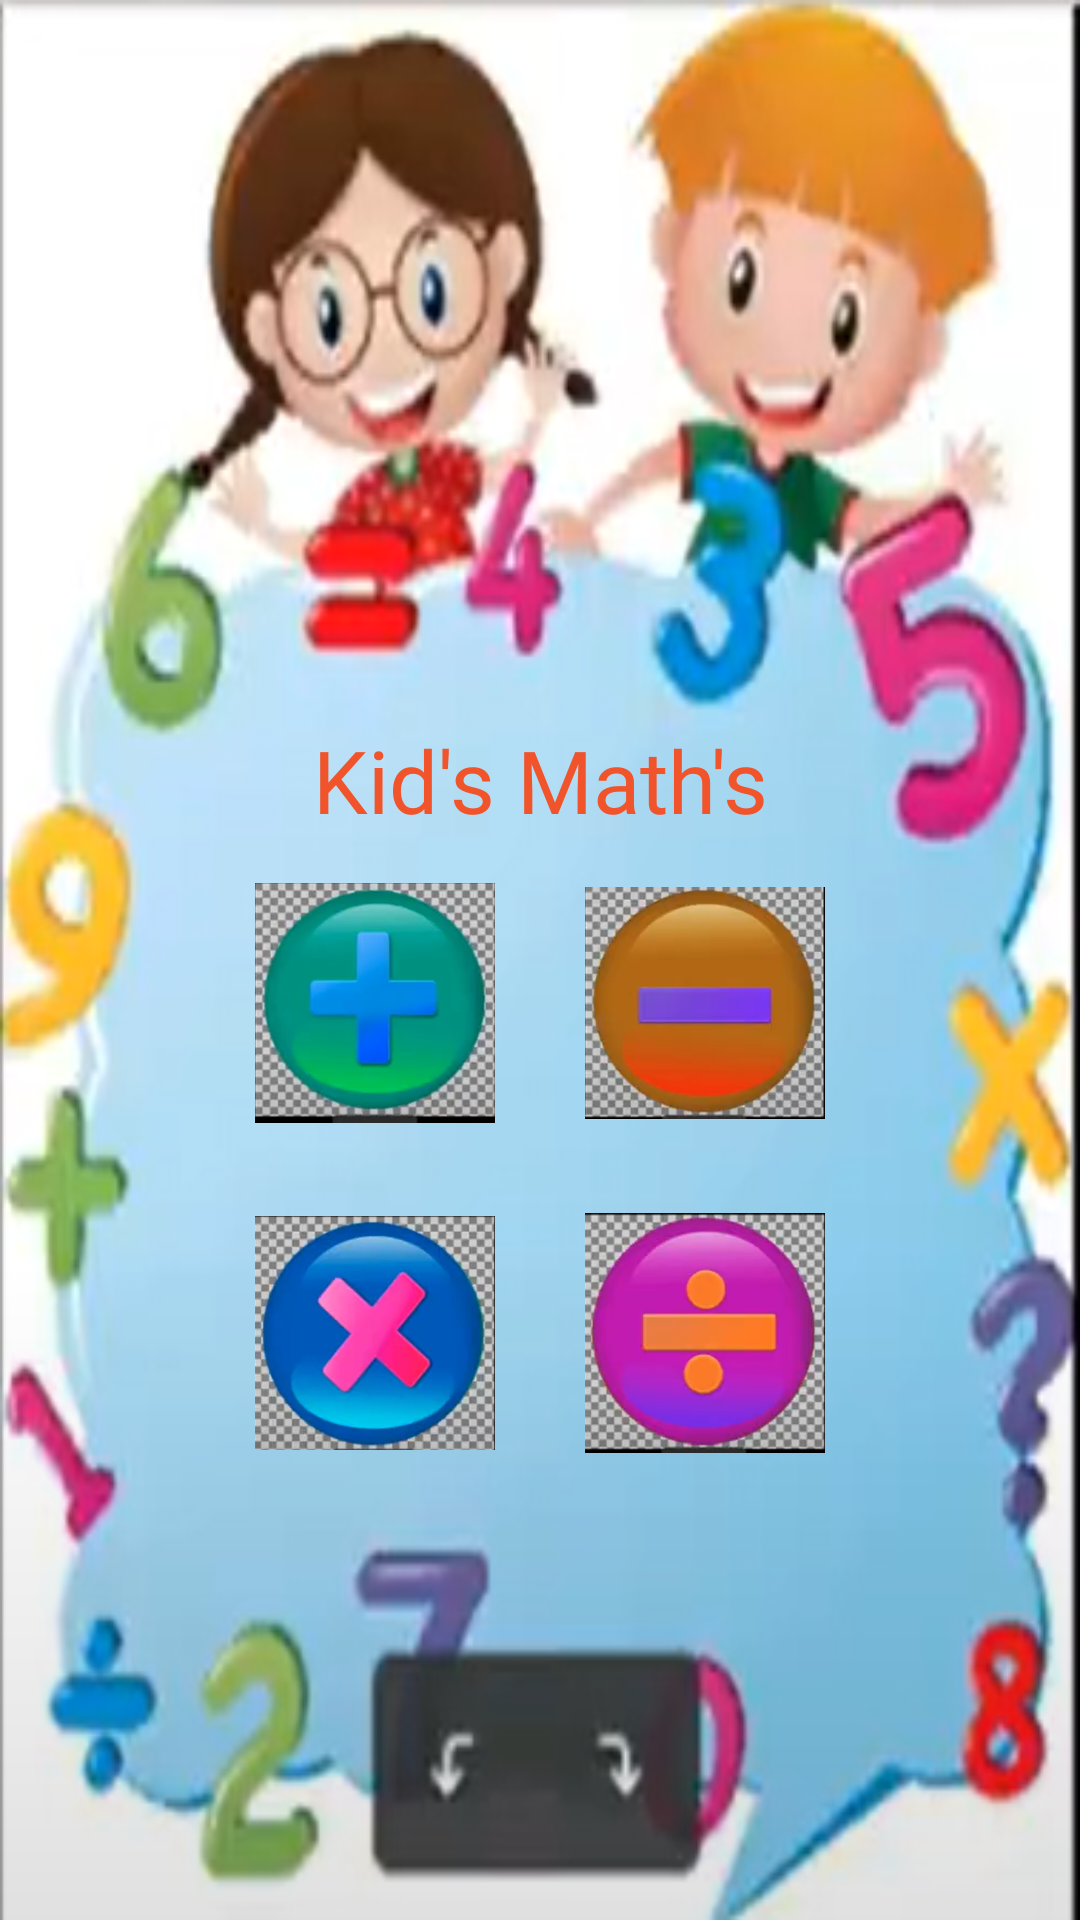

Locate icon controls on the screen. Image size 1080 x 1920, boxes as {"x1": x1, "y1": y1, "x2": x2, "y2": y2}.
addition: {"x1": 255, "y1": 883, "x2": 495, "y2": 1123}
division: {"x1": 585, "y1": 1213, "x2": 825, "y2": 1453}
multiply: {"x1": 255, "y1": 1216, "x2": 495, "y2": 1450}
subtraction: {"x1": 585, "y1": 887, "x2": 825, "y2": 1119}
